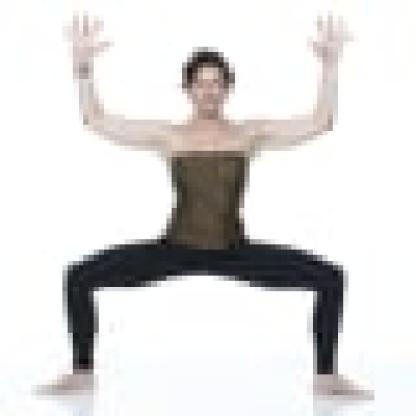godness: (26, 10, 384, 405)
